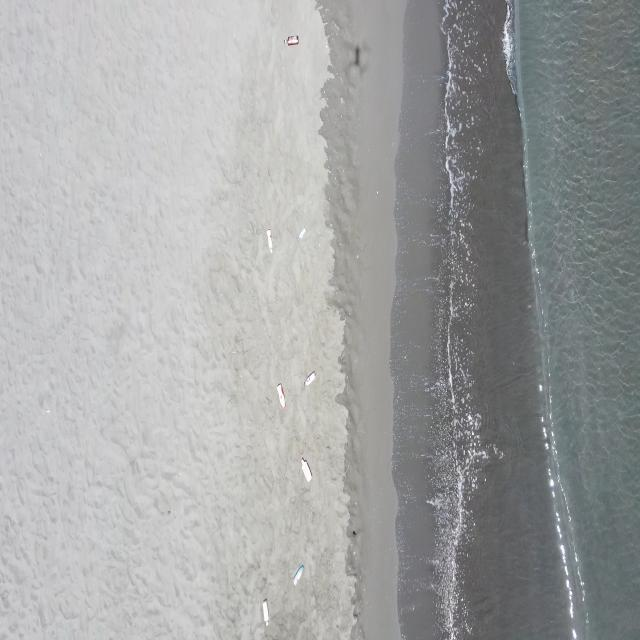plastic-bottle: (301, 457, 313, 484), (302, 372, 318, 388), (292, 564, 304, 585), (261, 599, 270, 626), (277, 383, 286, 409), (282, 35, 300, 47), (266, 229, 273, 254), (297, 228, 307, 242)
